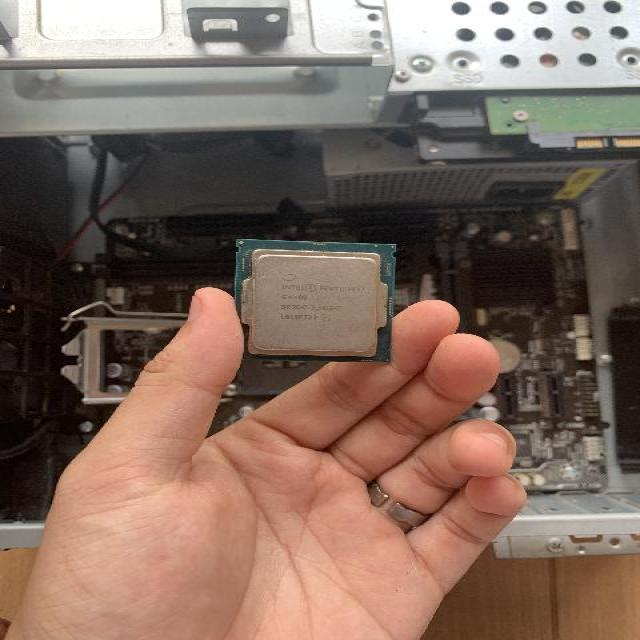CPU: (233, 237, 400, 366)
